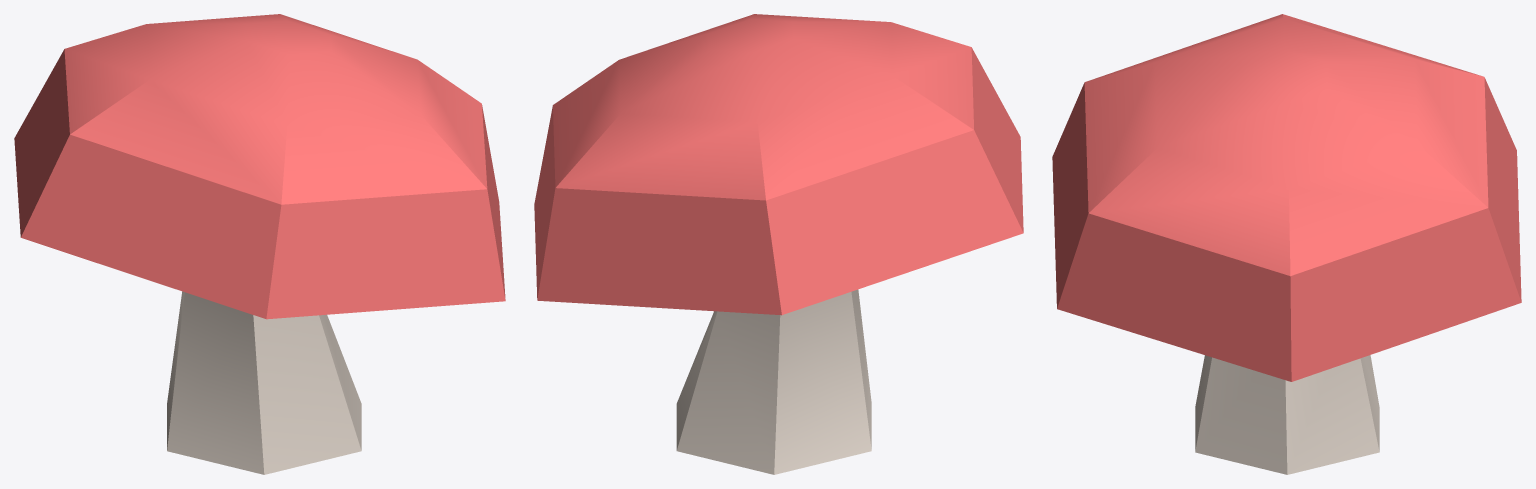
The model's file is fungo1.fbx.
The picture shows the model from 3 angles, left to right: view 1: azimuth 30°, elevation 25°; view 2: azimuth 150°, elevation 25°; view 3: azimuth 270°, elevation 25°; orthographic projection. The views are drawn at different scales.
Parts seen in each view (by area): view 1: Mushroom_Red_05; view 2: Mushroom_Red_05; view 3: Mushroom_Red_05.
Boxes of the visible parts, box(x1,y1,x2,y2) form: Mushroom_Red_05: box(14, 14, 505, 474); Mushroom_Red_05: box(534, 14, 1023, 474); Mushroom_Red_05: box(1052, 14, 1521, 474).
Size of the model in its own units: 26.26 by 20.32 by 23.29.
